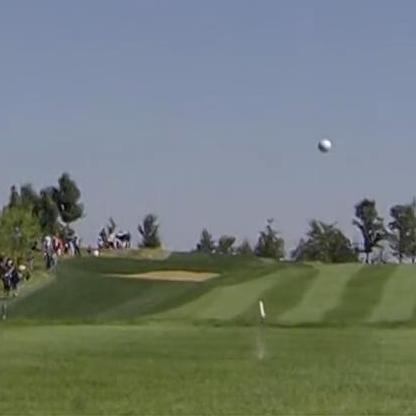golfball: (316, 135, 331, 150)
